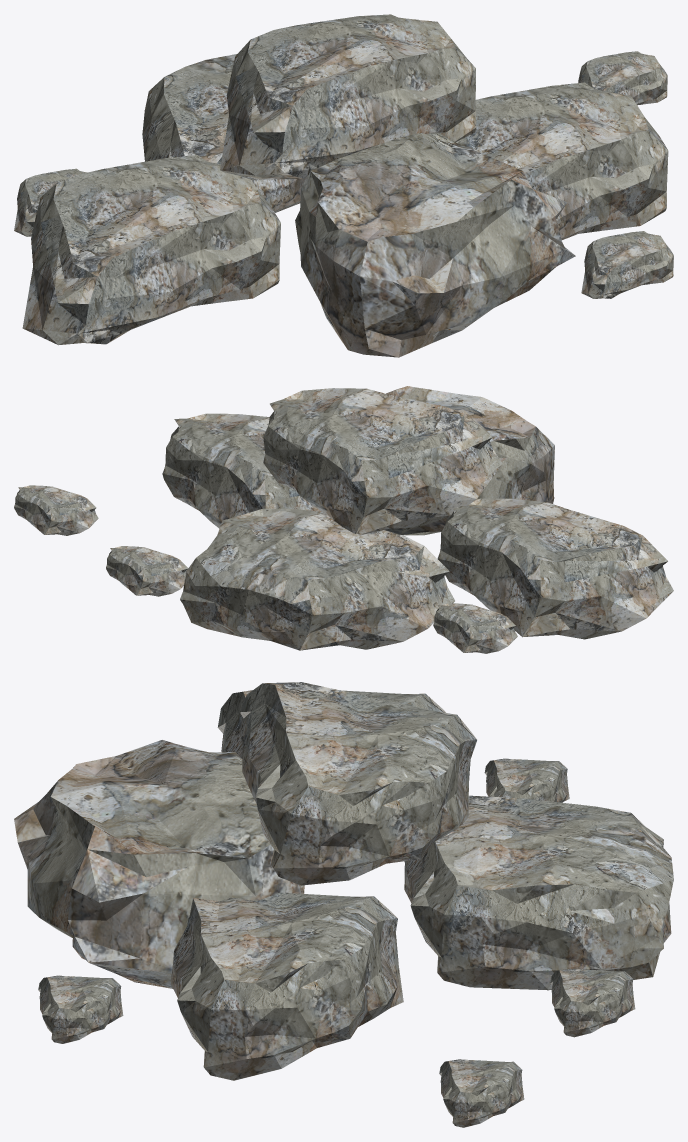
The model's file is rock_pile.glb.
3 views of the same model, one above another, from view 1: azimuth 30°, elevation 25°; view 2: azimuth 150°, elevation 25°; view 3: azimuth 270°, elevation 25° (orthographic). The views are drawn at different scales.
Visible parts, largest first — view 1: Cube_002.4_5, Cube_001.3_3, Cube_001__2_.6_10, Cube_001__1_.5_7, Cube.2_1, Cube_001__3_.7_13, Cube_001__6_.10_22, Cube_001__5_.9_19; view 2: Cube.2_1, Cube_001__2_.6_10, Cube_001.3_3, Cube_001__1_.5_7, Cube_002.4_5, Cube_001__6_.10_22, Cube_001__5_.9_19, Cube_001__4_.8_16; view 3: Cube_002.4_5, Cube.2_1, Cube_001__2_.6_10, Cube_001__1_.5_7, Cube_001__3_.7_13, Cube_001__4_.8_16, Cube_001__6_.10_22, Cube_001__5_.9_19, Cube_001.3_3.
Part boxes in pixels (box(x1,y1,x2,y2)): Cube_002.4_5: box(295, 133, 575, 357); Cube_001.3_3: box(22, 155, 280, 345); Cube_001__2_.6_10: box(220, 14, 476, 179); Cube_001__1_.5_7: box(456, 82, 668, 239); Cube.2_1: box(142, 54, 306, 212); Cube_001__3_.7_13: box(581, 231, 673, 298); Cube_001__6_.10_22: box(578, 51, 667, 105); Cube_001__5_.9_19: box(14, 168, 86, 236); Cube.2_1: box(180, 508, 454, 650); Cube_001__2_.6_10: box(263, 388, 502, 534); Cube_001.3_3: box(437, 498, 673, 639); Cube_001__1_.5_7: box(162, 413, 321, 528); Cube_002.4_5: box(385, 386, 554, 535); Cube_001__6_.10_22: box(14, 485, 98, 535); Cube_001__5_.9_19: box(433, 603, 517, 653); Cube_001__4_.8_16: box(106, 546, 188, 596); Cube_002.4_5: box(14, 740, 304, 988); Cube.2_1: box(404, 795, 673, 990); Cube_001__2_.6_10: box(239, 682, 476, 885); Cube_001__1_.5_7: box(171, 892, 403, 1080); Cube_001__3_.7_13: box(38, 975, 123, 1043); Cube_001__4_.8_16: box(550, 969, 635, 1037); Cube_001__6_.10_22: box(439, 1059, 524, 1127); Cube_001__5_.9_19: box(484, 758, 569, 802); Cube_001.3_3: box(217, 690, 445, 758).
Size of the model in its own units: 721 by 204 by 509.
Materials: 3 (3 with a texture image).
